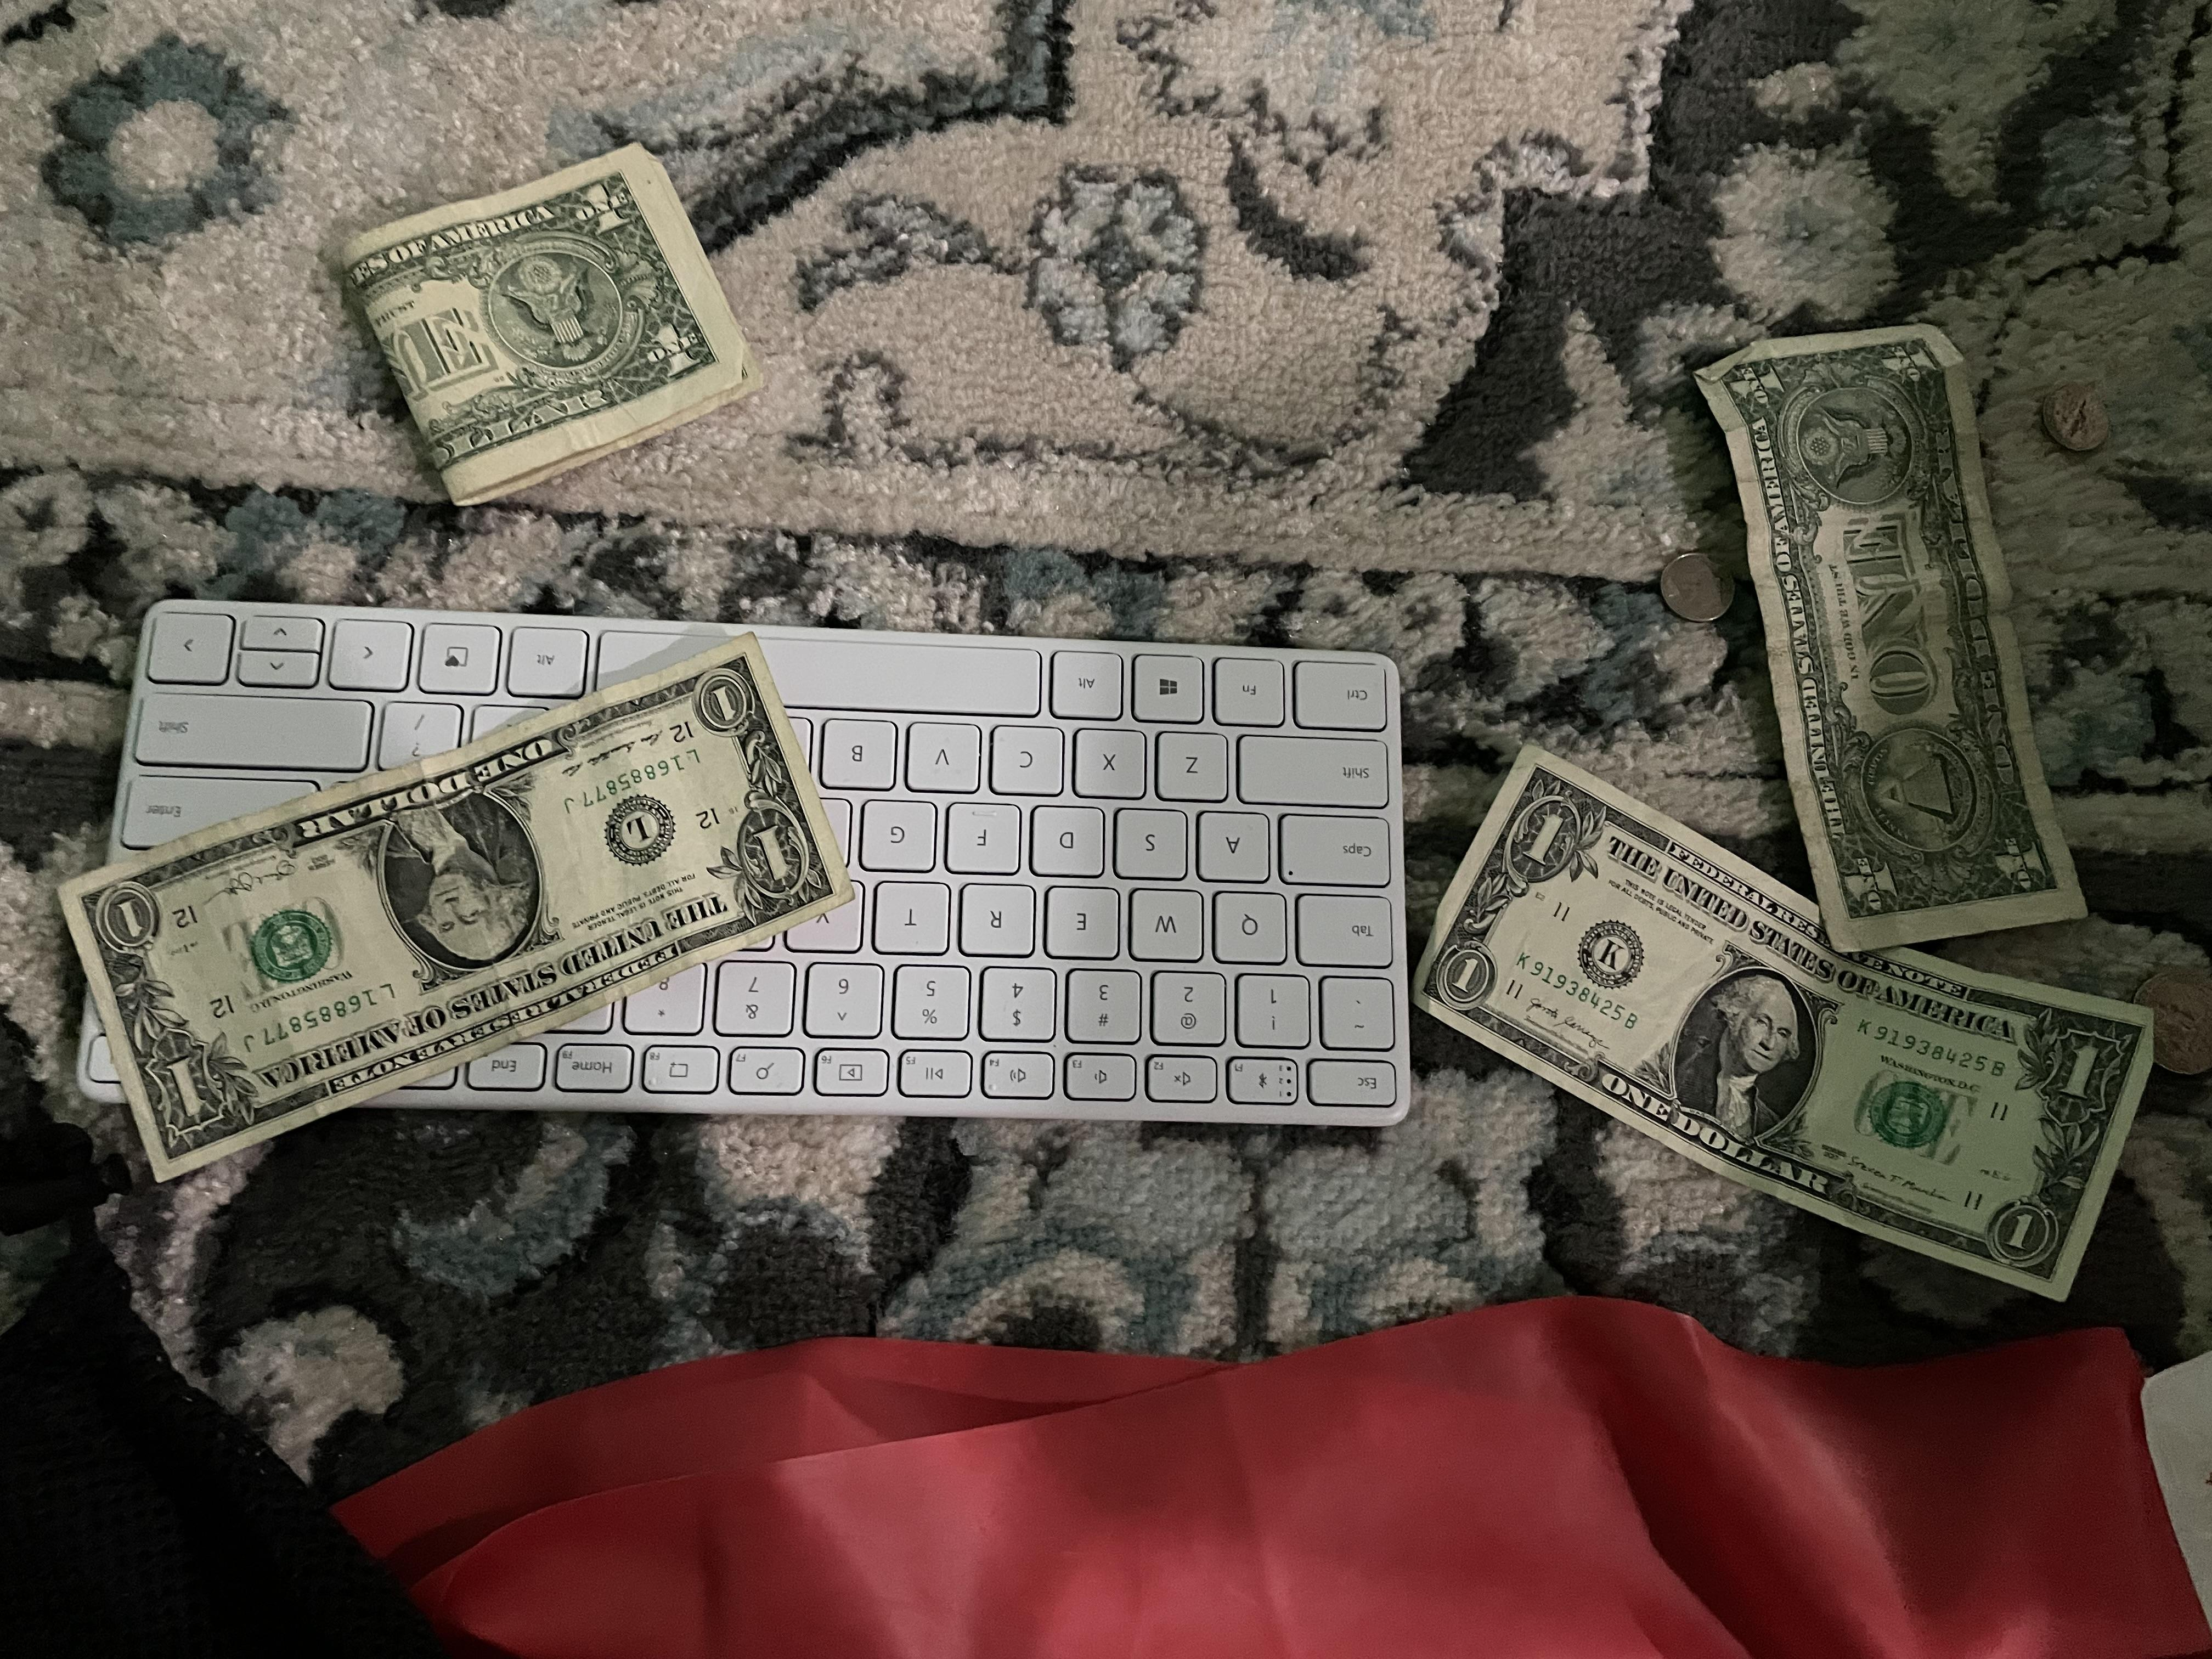Dime: (1646, 540, 1740, 641)
OneBill: (1364, 739, 2163, 1317), (64, 634, 859, 1190), (1698, 315, 2088, 960), (345, 134, 756, 502)
Quarter: (2132, 945, 2210, 1072)
